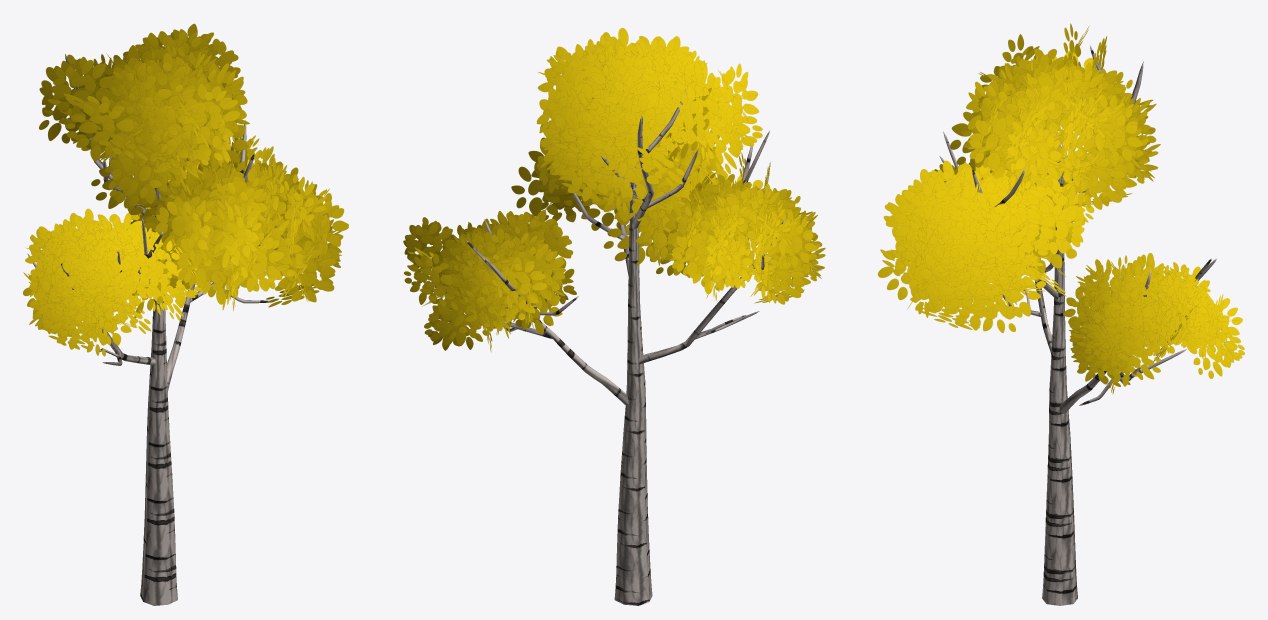
The model's file is BirchTree_5.gltf.
The picture shows the model from 3 angles, left to right: view 1: azimuth 30°, elevation 25°; view 2: azimuth 150°, elevation 25°; view 3: azimuth 270°, elevation 25°; orthographic projection. The views are drawn at different scales.
Parts seen in each view (by area): view 1: BirchTree_5; view 2: BirchTree_5; view 3: BirchTree_5.
Boxes of the visible parts, bbox=[...] form: BirchTree_5: bbox=[23, 23, 348, 605]; BirchTree_5: bbox=[403, 28, 825, 605]; BirchTree_5: bbox=[878, 23, 1244, 605].
Bounding box in the file's own units: 3.58 × 5.52 × 3.51.
Materials: 2 (2 with a texture image).
